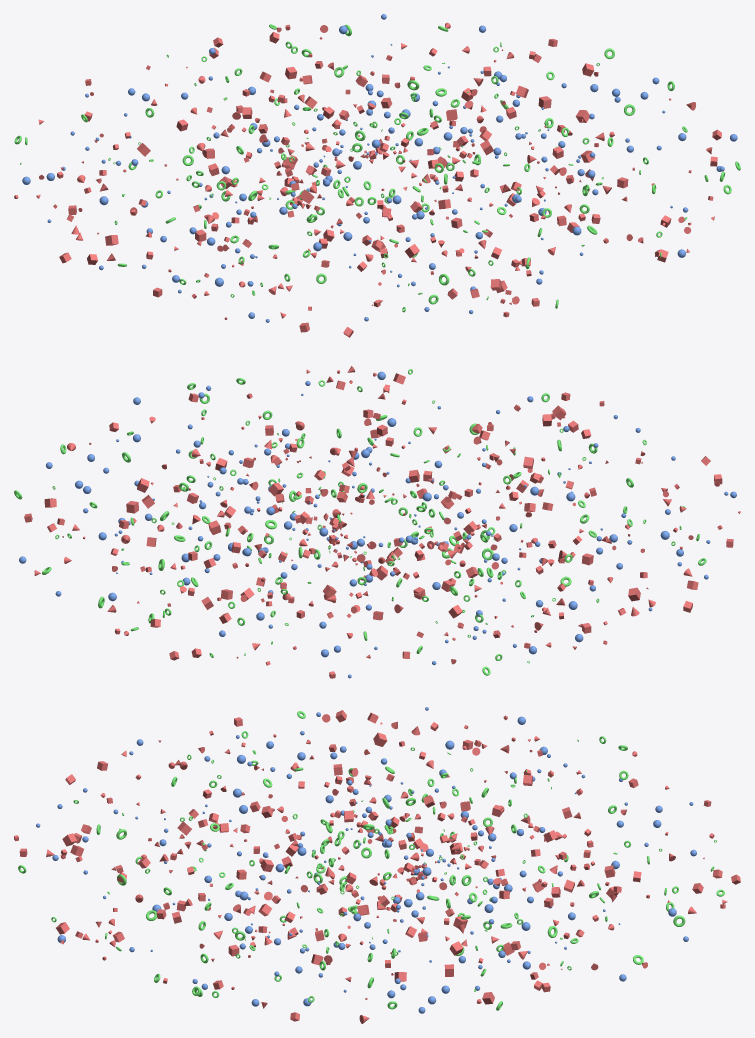
Rendered from ring_scene.gltf.
3 renders of one model, top to bottom at view 1: azimuth 30°, elevation 25°; view 2: azimuth 150°, elevation 25°; view 3: azimuth 270°, elevation 25°, orthographic.
Size of the model in its own units: 398 by 17 by 395.
